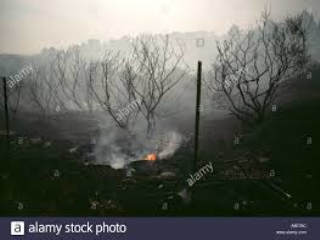fire: (145, 152, 156, 165)
smoke: (59, 96, 137, 178), (152, 55, 198, 158)
